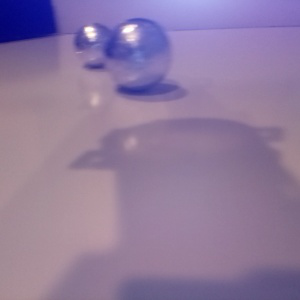alive_ball: (74, 22, 115, 66)
dead_ball: (105, 19, 173, 90)
